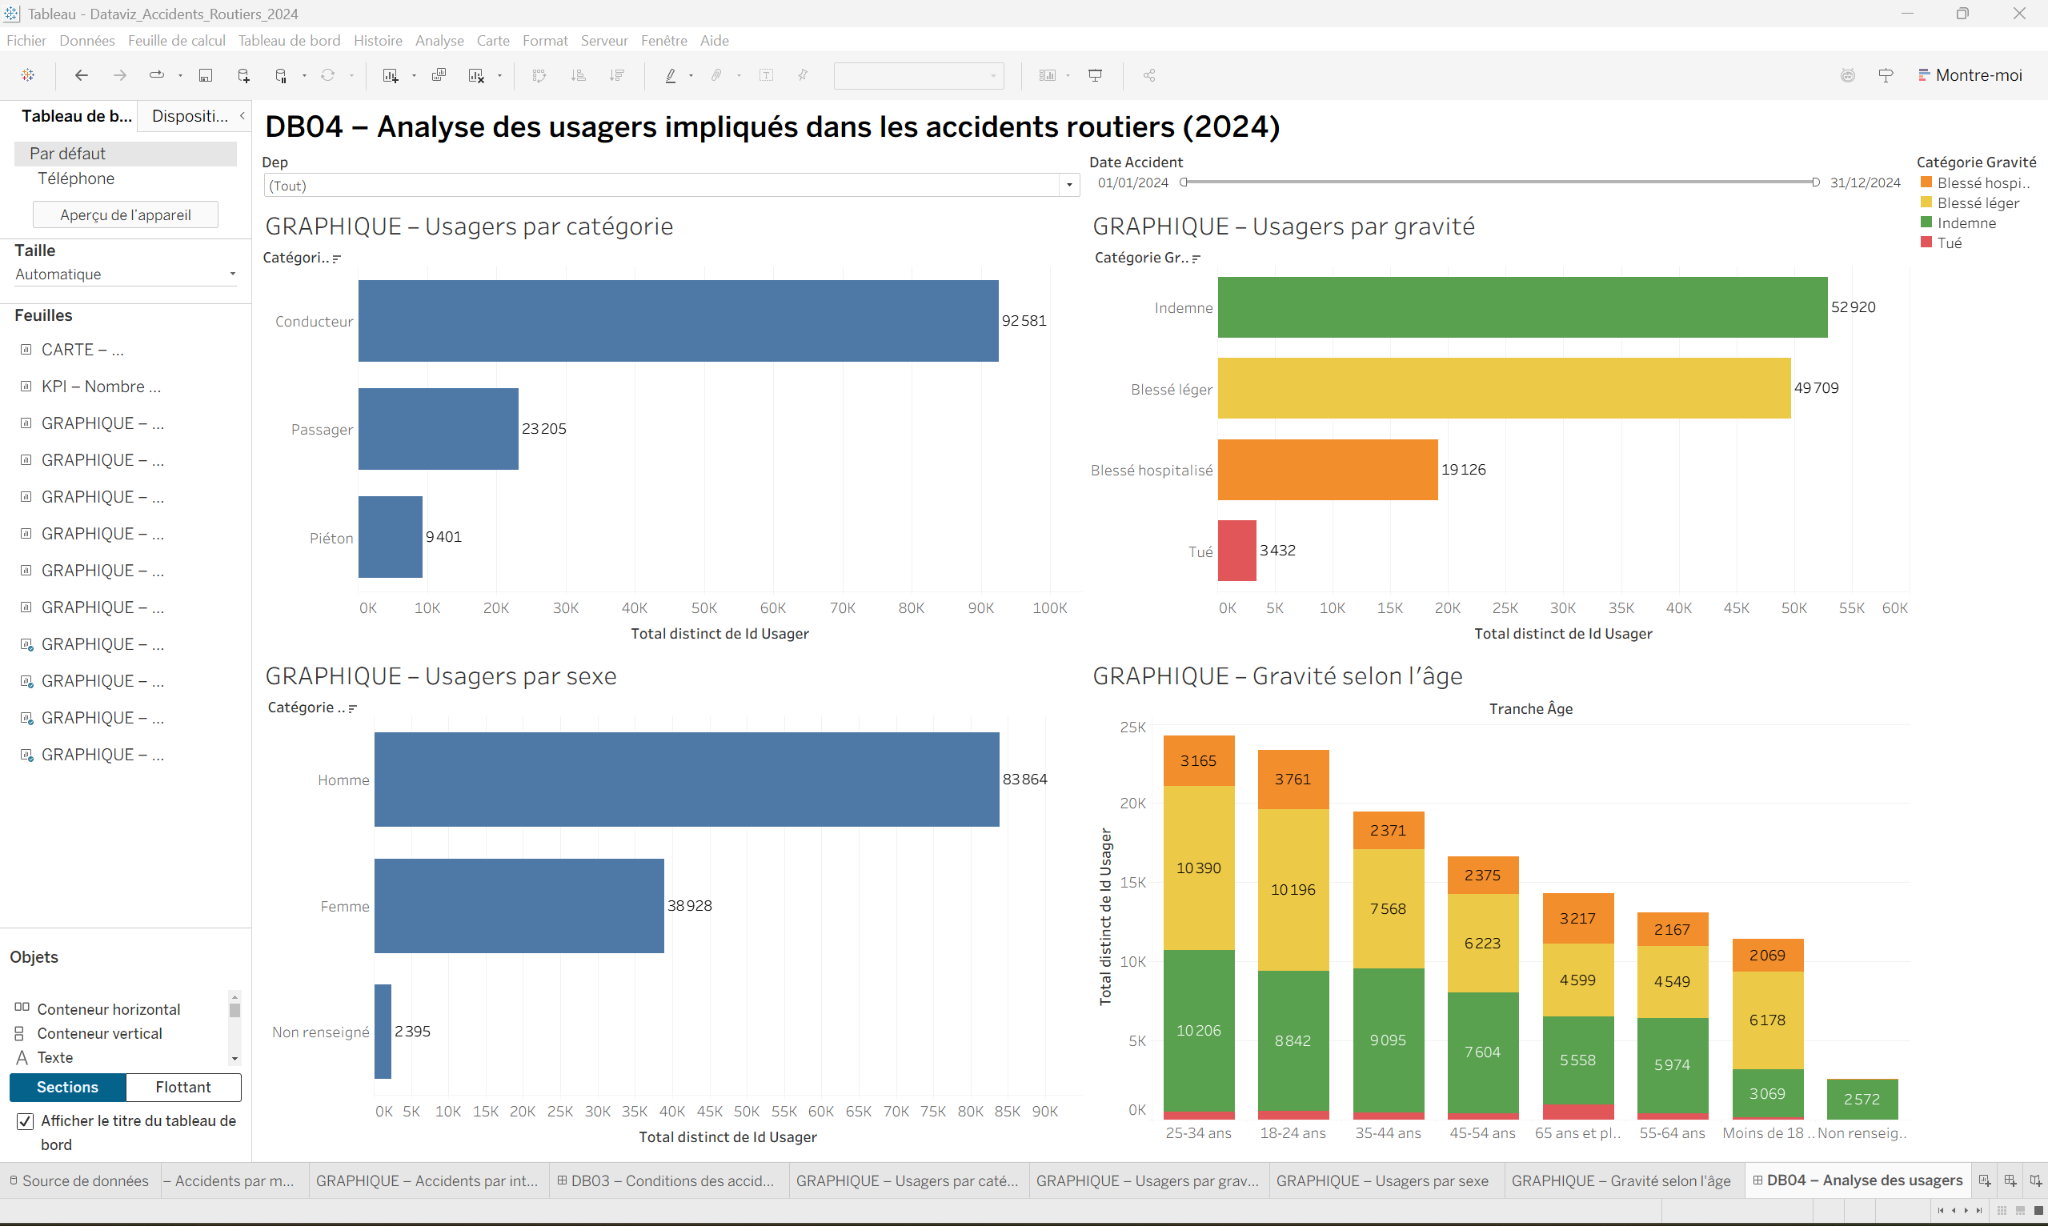

This screenshot's page, from the dashboard's own definition file:
{"tool":"tableau","page":{"name":"DB04 – Analyse des usagers","canvas":[1000,1000],"units":"permille","ordinal":3},"visuals":[{"type":"title","box":[3.6,6,992.9,39.2]},{"type":"filter","title":"GRAPHIQUE – Gravité selon l'âge","param":"[federated.1dc3qo30r3qsj61aflm3n1lx6kel].[none:dep:nk]","box":[3.6,45.2,460.9,50.7]},{"type":"filter","title":"GRAPHIQUE – Gravité selon l'âge","param":"[federated.1dc3qo30r3qsj61aflm3n1lx6kel].[none:Calculation_3093267443486720:qk]","box":[464.4,45.2,460.9,50.7]},{"type":"legend","title":"GRAPHIQUE – Gravité selon l'âge","param":"[federated.1dc3qo30r3qsj61aflm3n1lx6kel].[none:Calculation_2684799220703232:nk]","box":[925.3,45.2,71.1,101]},{"type":"worksheet","title":"GRAPHIQUE – Usagers par catégorie","mark":"Bar","rows":["Calculation_2684799221997571"],"cols":["id_usager"],"box":[3.6,95.9,460.9,423.7]},{"type":"worksheet","title":"GRAPHIQUE – Usagers par gravité","mark":"Automatic","rows":["Calculation_2684799220703232"],"cols":["id_usager"],"box":[464.4,95.9,460.9,423.7]},{"type":"worksheet","title":"GRAPHIQUE – Usagers par sexe","mark":"Bar","rows":["Calculation_2684799221940226"],"cols":["id_usager"],"box":[3.6,519.6,460.9,474.4]},{"type":"worksheet","title":"GRAPHIQUE – Gravité selon l'âge","mark":"Bar","rows":["id_usager"],"cols":["Calculation_2684799225167877"],"box":[464.4,519.6,460.9,474.4]}]}

Visuals, with their boxes on the dashboard's canvas, which has no fixed pixel size, in thousandths of its width and height (x1, y1, x2, y2). These are canvas units, not pixel positions in the 2048x1226 screenshot, which may show the page scaled, cropped or inside an application window:
title: 4 6 996 45
"GRAPHIQUE – Gravité selon l'âge" filter: 4 45 464 96
"GRAPHIQUE – Gravité selon l'âge" filter: 464 45 925 96
"GRAPHIQUE – Gravité selon l'âge" legend: 925 45 996 146
"GRAPHIQUE – Usagers par catégorie" worksheet (Bar marks): 4 96 464 520
"GRAPHIQUE – Usagers par gravité" worksheet: 464 96 925 520
"GRAPHIQUE – Usagers par sexe" worksheet (Bar marks): 4 520 464 994
"GRAPHIQUE – Gravité selon l'âge" worksheet (Bar marks): 464 520 925 994
